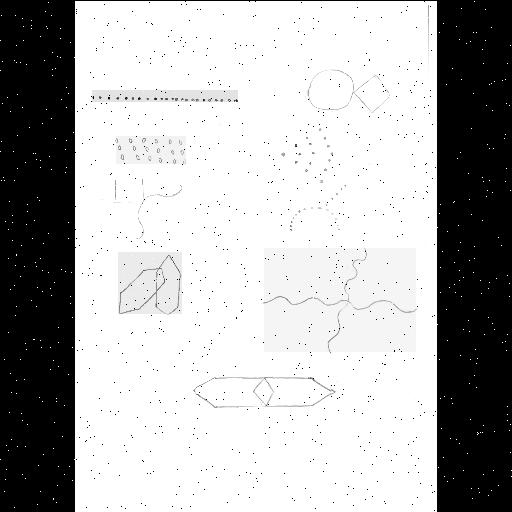shape-1: (306, 68, 390, 114)
shape-2: (92, 90, 238, 102)
shape-3: (116, 136, 186, 164)
shape-4: (278, 126, 334, 184)
shape-5: (113, 176, 183, 240)
shape-6: (290, 180, 348, 234)
shape-7: (264, 248, 416, 352)
shape-8: (118, 252, 182, 314)
shape-9: (194, 376, 334, 408)
